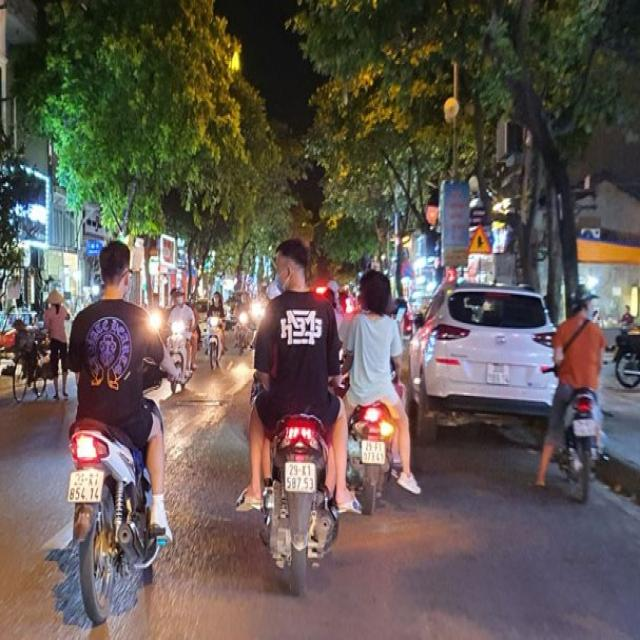Face and Hair: (89, 230, 137, 306)
